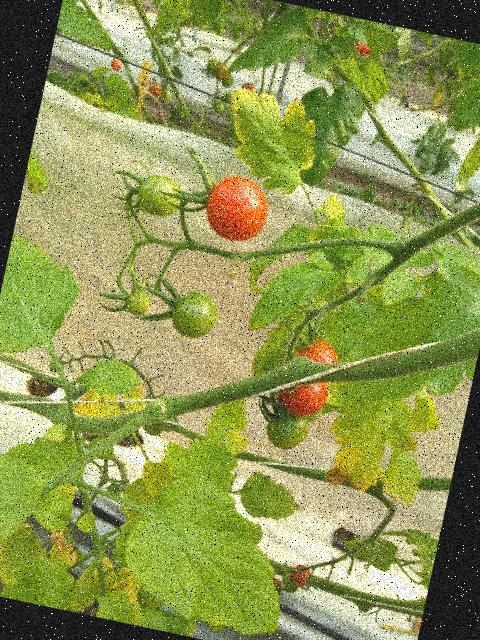l_fully_ripened: (275, 373, 331, 421), (288, 562, 312, 588)
l_green: (167, 285, 224, 342), (133, 171, 187, 220), (263, 407, 311, 453), (123, 289, 154, 319), (279, 570, 301, 594), (142, 417, 164, 438), (105, 480, 123, 501)
l_half_ripened: (200, 170, 274, 247), (294, 335, 341, 366)
